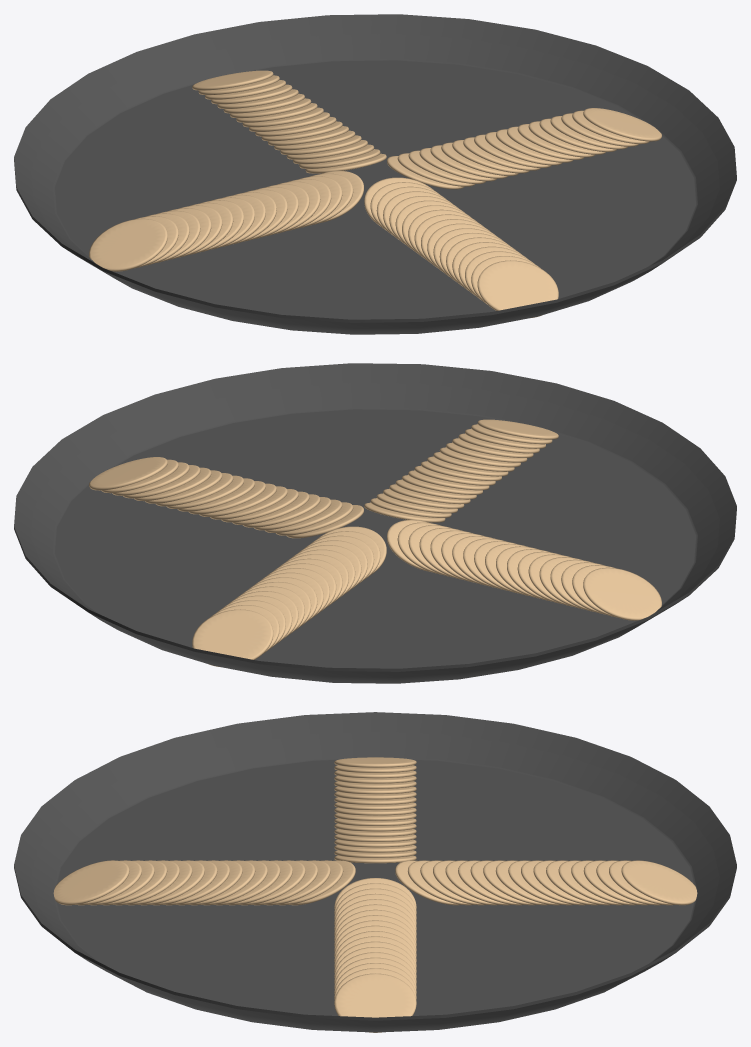
Rendered from biscuits tray (1).fbx.
3 renders of one model, top to bottom at view 1: azimuth 30°, elevation 25°; view 2: azimuth 150°, elevation 25°; view 3: azimuth 270°, elevation 25°, orthographic.
Visible parts, largest first — view 1: tray, biscuits 1.083, biscuits 1.020, biscuits 1.062, biscuits 1.041, biscuits 1.006, biscuits 1.018, biscuits 1.015, biscuits 1.017, biscuits 1.003, biscuits 1.009, biscuits 1.012 (+49 smaller); view 2: tray, biscuits 1.041, biscuits 1.020, biscuits 1.062, biscuits 1.083, biscuits 1.006, biscuits 1.018, biscuits 1.015, biscuits 1.017, biscuits 1.003, biscuits 1.009, biscuits 1.012 (+49 smaller); view 3: tray, biscuits 1.062, biscuits 1.041, biscuits 1.083, biscuits 1.020, biscuits 1.029, biscuits 1.071, biscuits 1.036, biscuits 1.078, biscuits 1.031, biscuits 1.038, biscuits 1.073 (+29 smaller).
Boxes of the visible parts, left/top/right/bottom form: tray: left=14, top=14, right=736, bottom=334; biscuits 1.083: left=477, top=260, right=558, bottom=318; biscuits 1.020: left=89, top=218, right=167, bottom=271; biscuits 1.062: left=583, top=108, right=661, bottom=141; biscuits 1.041: left=192, top=70, right=273, bottom=90; biscuits 1.006: left=277, top=181, right=320, bottom=233; biscuits 1.018: left=146, top=213, right=189, bottom=265; biscuits 1.015: left=178, top=205, right=222, bottom=257; biscuits 1.017: left=156, top=210, right=200, bottom=262; biscuits 1.003: left=309, top=173, right=353, bottom=225; biscuits 1.009: left=244, top=189, right=287, bottom=241; biscuits 1.012: left=211, top=197, right=254, bottom=249; tray: left=14, top=363, right=736, bottom=683; biscuits 1.041: left=192, top=609, right=273, bottom=667; biscuits 1.020: left=583, top=567, right=661, bottom=620; biscuits 1.062: left=89, top=457, right=167, bottom=490; biscuits 1.083: left=477, top=419, right=558, bottom=439; biscuits 1.006: left=430, top=530, right=473, bottom=582; biscuits 1.018: left=561, top=562, right=604, bottom=614; biscuits 1.015: left=528, top=554, right=572, bottom=606; biscuits 1.017: left=550, top=559, right=594, bottom=611; biscuits 1.003: left=397, top=522, right=441, bottom=574; biscuits 1.009: left=463, top=538, right=506, bottom=590; biscuits 1.012: left=496, top=546, right=539, bottom=598; tray: left=14, top=712, right=736, bottom=1032; biscuits 1.062: left=334, top=973, right=416, bottom=1032; biscuits 1.041: left=621, top=860, right=697, bottom=905; biscuits 1.083: left=53, top=860, right=129, bottom=905; biscuits 1.020: left=334, top=757, right=416, bottom=767; biscuits 1.029: left=470, top=860, right=536, bottom=905; biscuits 1.071: left=214, top=860, right=280, bottom=905; biscuits 1.036: left=558, top=860, right=624, bottom=905; biscuits 1.078: left=126, top=860, right=192, bottom=905; biscuits 1.031: left=495, top=860, right=561, bottom=905; biscuits 1.038: left=583, top=860, right=649, bottom=905; biscuits 1.073: left=189, top=860, right=255, bottom=905.
Size of the model in its own units: 209 by 10.13 by 209.
